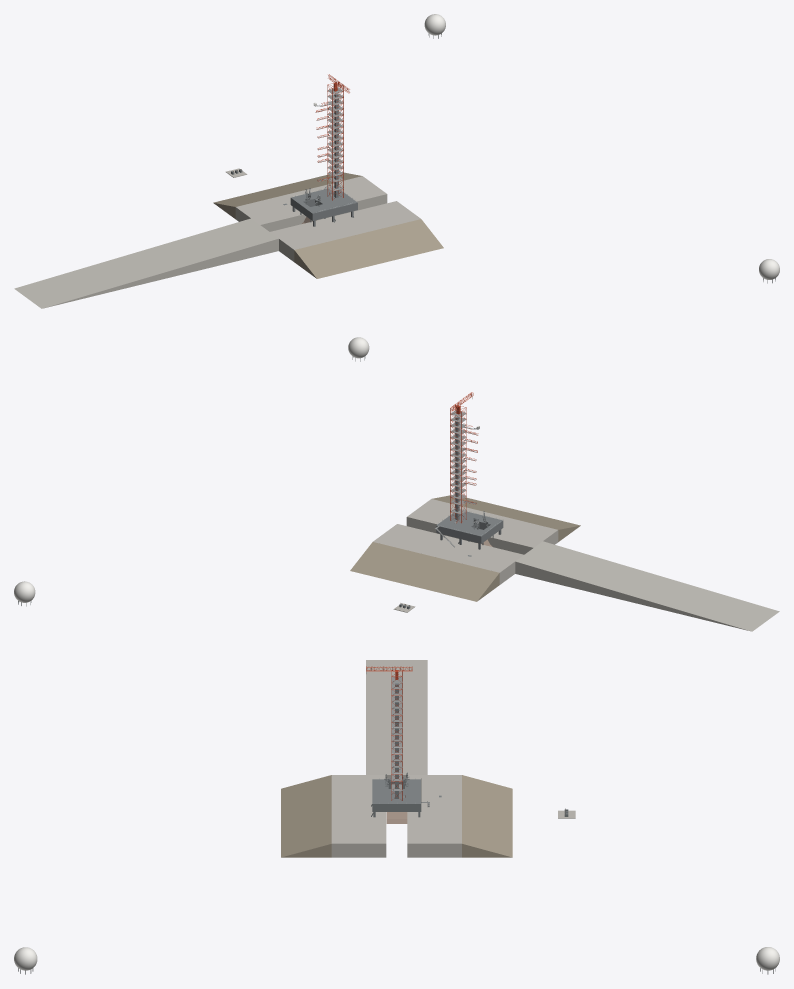
File: pad-a-1970-04.lod1.glb
The picture shows the model from 3 angles, top to bottom: view 1: azimuth 30°, elevation 25°; view 2: azimuth 150°, elevation 25°; view 3: azimuth 270°, elevation 25°; orthographic projection. The views are drawn at different scales.
Visible parts, largest first — view 1: Hardstand_Concrete, Hardstand_Earth, Launcher_Base_Steel, Umbilical_Tower_Deck, Umbilical_Tower_Red, Storage_Spheres_White; view 2: Hardstand_Concrete, Hardstand_Earth, Launcher_Base_Steel, Umbilical_Tower_Deck, Umbilical_Tower_Red, Storage_Spheres_White; view 3: Hardstand_Concrete, Hardstand_Earth, Launcher_Base_Steel, Umbilical_Tower_Deck, Storage_Spheres_White, Umbilical_Tower_Red.
Boxes of the visible parts, bbox=[...] form: Hardstand_Concrete: bbox=[14, 176, 420, 308]; Hardstand_Earth: bbox=[213, 172, 443, 278]; Launcher_Base_Steel: bbox=[290, 189, 357, 220]; Umbilical_Tower_Deck: bbox=[327, 87, 343, 191]; Umbilical_Tower_Red: bbox=[327, 82, 343, 200]; Storage_Spheres_White: bbox=[424, 14, 779, 279]; Hardstand_Concrete: bbox=[373, 499, 779, 631]; Hardstand_Earth: bbox=[350, 495, 580, 601]; Launcher_Base_Steel: bbox=[436, 511, 503, 543]; Umbilical_Tower_Deck: bbox=[450, 410, 466, 514]; Umbilical_Tower_Red: bbox=[450, 405, 466, 523]; Storage_Spheres_White: bbox=[14, 337, 369, 602]; Hardstand_Concrete: bbox=[331, 660, 461, 857]; Hardstand_Earth: bbox=[281, 775, 512, 857]; Launcher_Base_Steel: bbox=[372, 779, 421, 811]; Umbilical_Tower_Deck: bbox=[391, 676, 402, 790]; Storage_Spheres_White: bbox=[14, 947, 779, 970]; Umbilical_Tower_Red: bbox=[391, 670, 402, 800].
Size of the model in its own units: 630 by 149 by 645.
